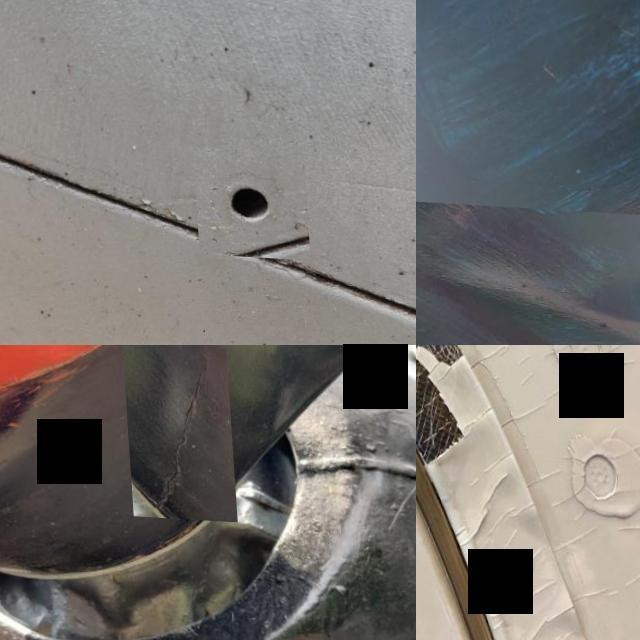Crack: (119, 345, 232, 517), (451, 460, 510, 551), (460, 555, 509, 580)
Dent: (416, 200, 640, 345)
Missing_Fastener: (190, 144, 307, 256)
